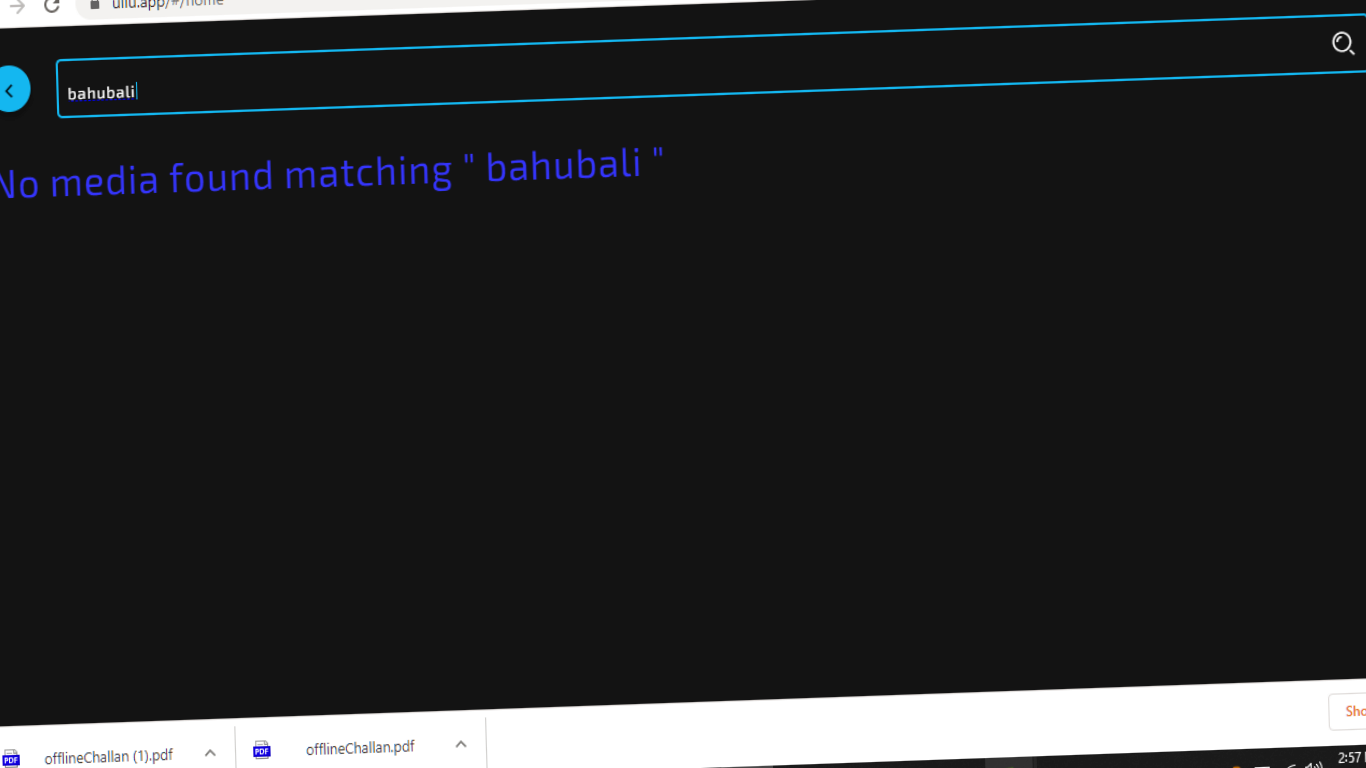backbutton: (1, 53, 31, 130)
noresultsfound: (1, 134, 700, 205)
searchicon: (1303, 22, 1366, 71)
searchtextbox: (51, 11, 1360, 119)
